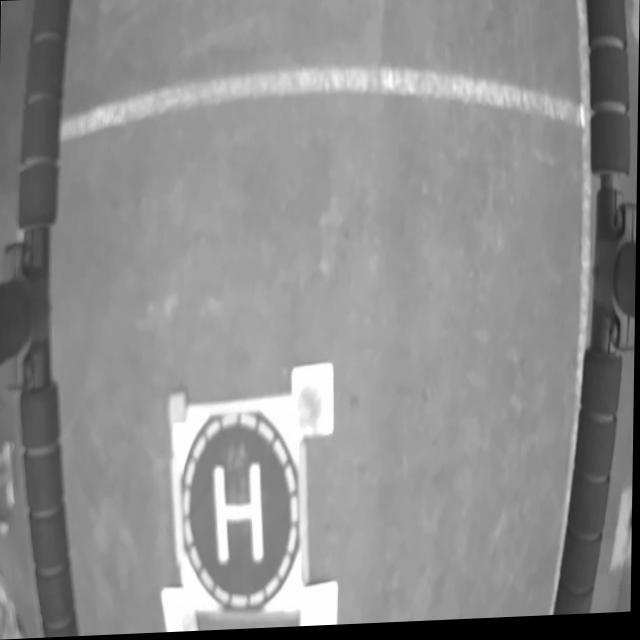Helipad: (211, 461, 265, 565)
